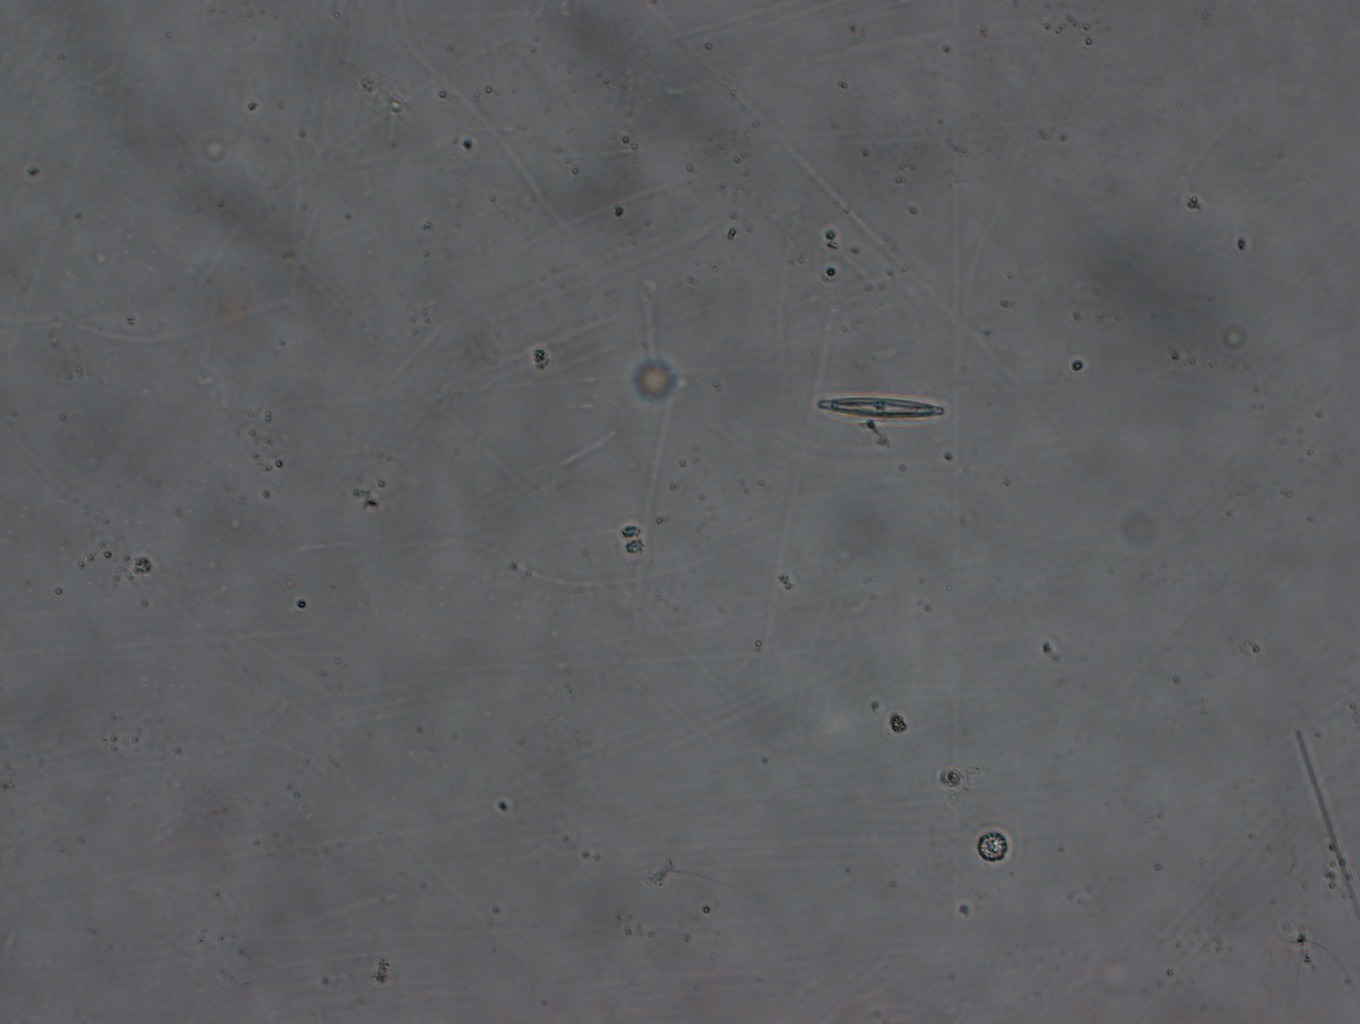navicula: (817, 396, 945, 419)
